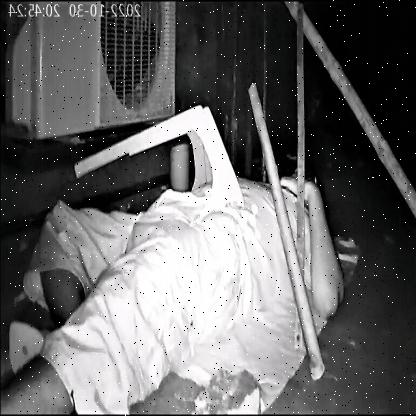hand: (280, 153, 347, 317)
